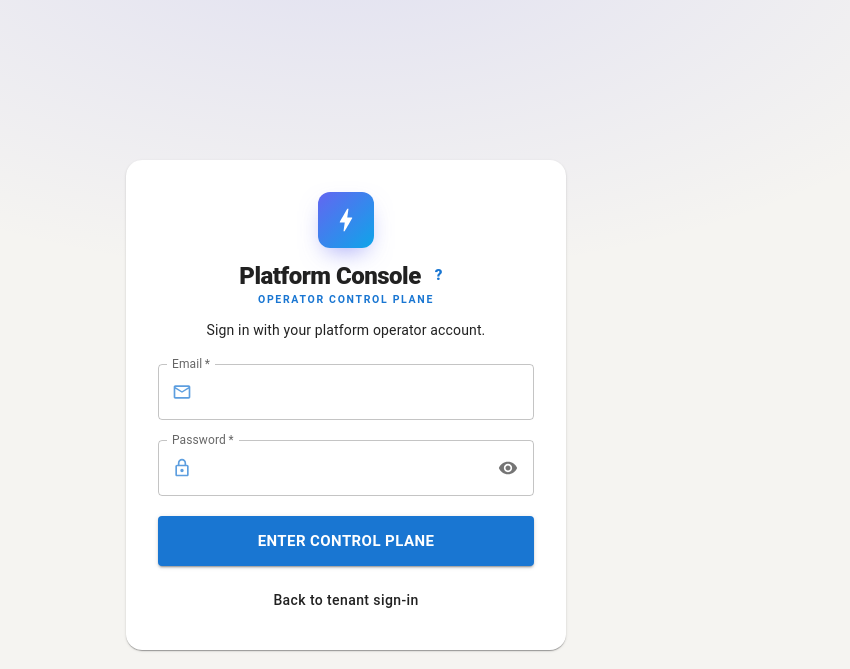
Test: PlatformLoginScreen MFA challenge › uses customer language first and keeps the session boundary in contextual help
This screenshot has width=850, height=669.
Expected: the text "Sign in with your platform operator account." is shown, top-left (206, 320), bottom-right (485, 340)
Hover over the button named "Learn more about Platform Console" at (439, 276), box top-left (425, 262), bottom-right (453, 290)
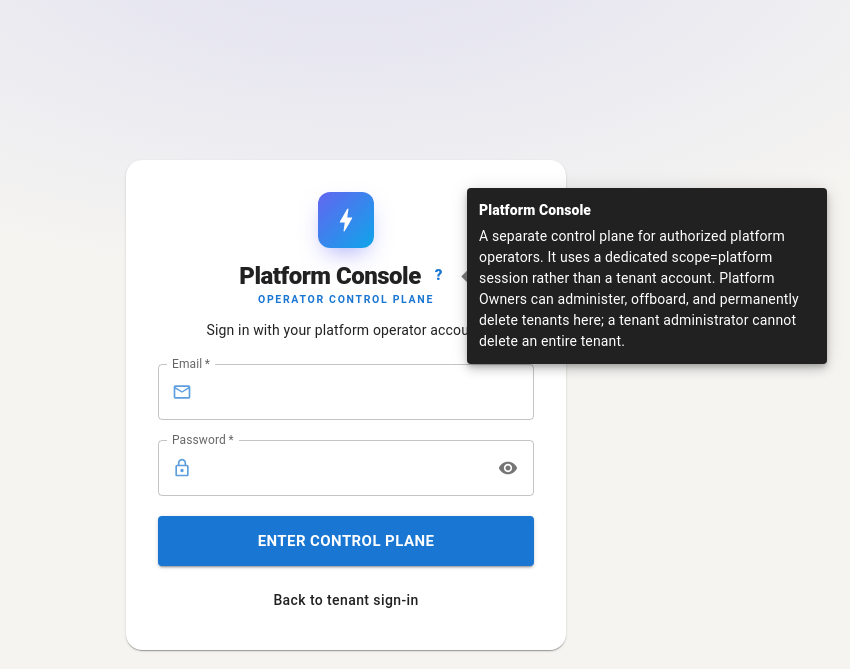
Expected: the tooltip shows "dedicated scope=platform session", top-left (479, 228), bottom-right (799, 349)
